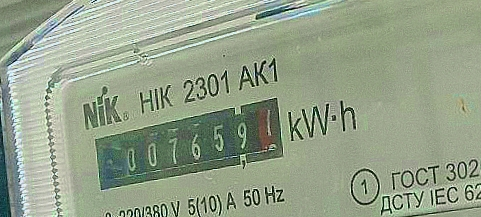0: (124, 143, 138, 171), (145, 140, 159, 167)
1: (261, 107, 275, 138)
5: (210, 121, 226, 154)
6: (188, 129, 203, 161)
7: (165, 133, 181, 165)
9: (234, 117, 250, 152)
screen: (79, 89, 304, 196)
